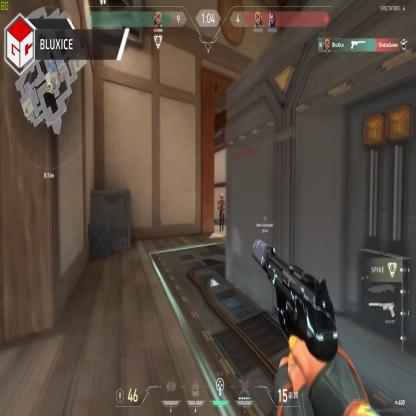enemy: (218, 193, 226, 233)
enemy_head: (220, 194, 224, 202)
